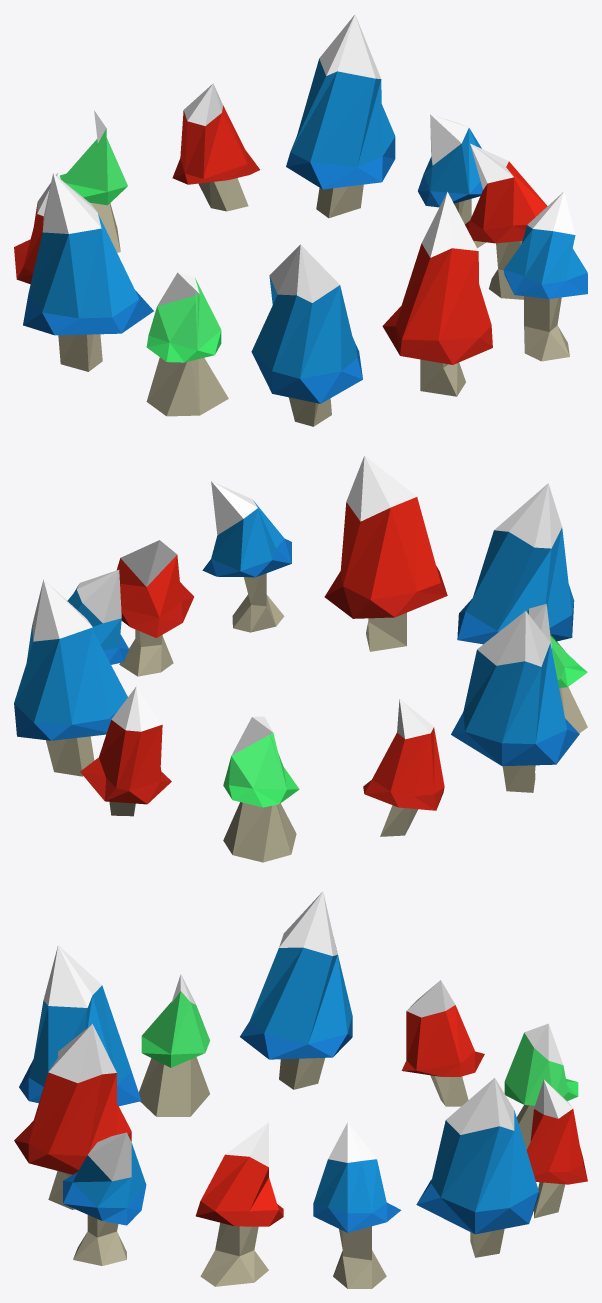
Rendered from fairy-rings.gltf.
The picture shows the model from 3 angles, top to bottom: view 1: azimuth 30°, elevation 25°; view 2: azimuth 150°, elevation 25°; view 3: azimuth 270°, elevation 25°; orthographic projection. The views are drawn at different scales.
Size of the model in its own units: 114 by 41 by 117.
1 material, 1 textured.
